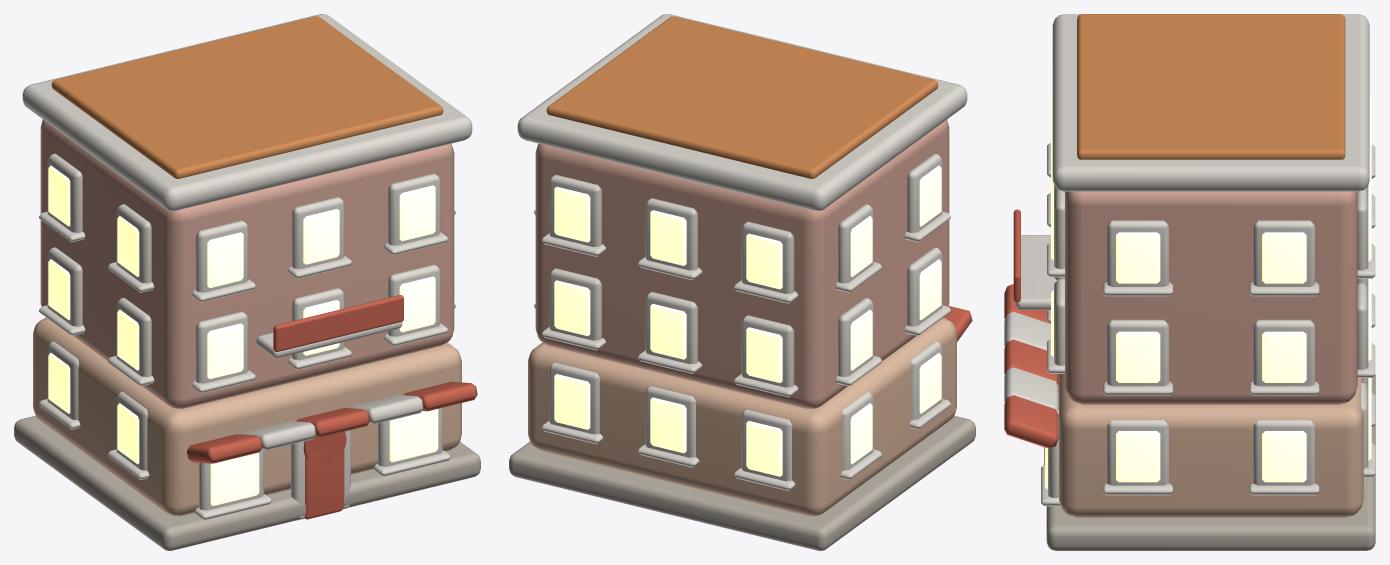
3 views of the same model, side by side, from view 1: azimuth 30°, elevation 25°; view 2: azimuth 150°, elevation 25°; view 3: azimuth 270°, elevation 25° (orthographic). The views are drawn at different scales.
Visible parts, largest first — view 1: Cube; view 2: Cube; view 3: Cube.
Part boxes in pixels (x1,y1,x2,y2): Cube: [14, 14, 480, 550]; Cube: [509, 14, 975, 550]; Cube: [1004, 14, 1375, 550].
Bounding box in the file's own units: 0.64 × 0.7055 × 0.6097.
